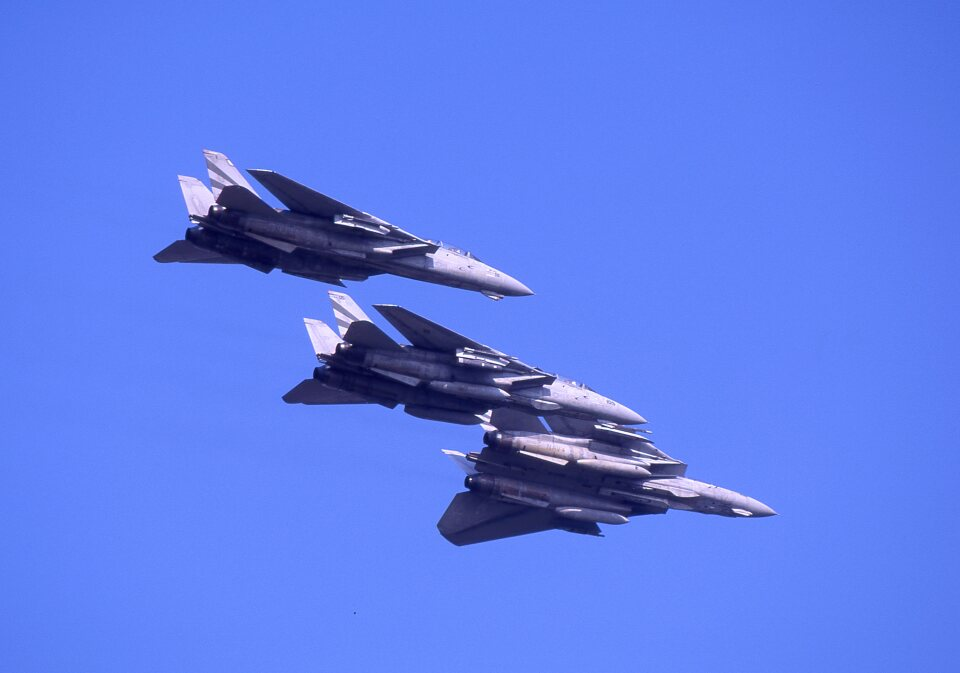F14: (151, 148, 535, 300), (280, 288, 650, 425), (436, 406, 780, 546)
